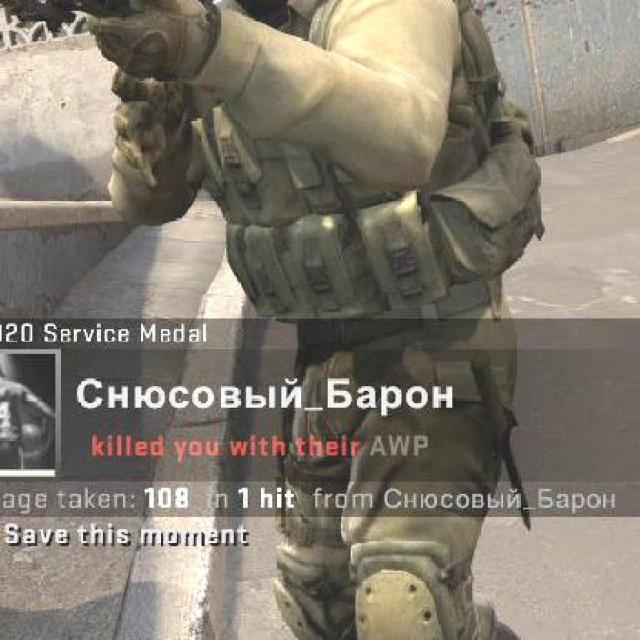CT: (78, 0, 633, 638)
